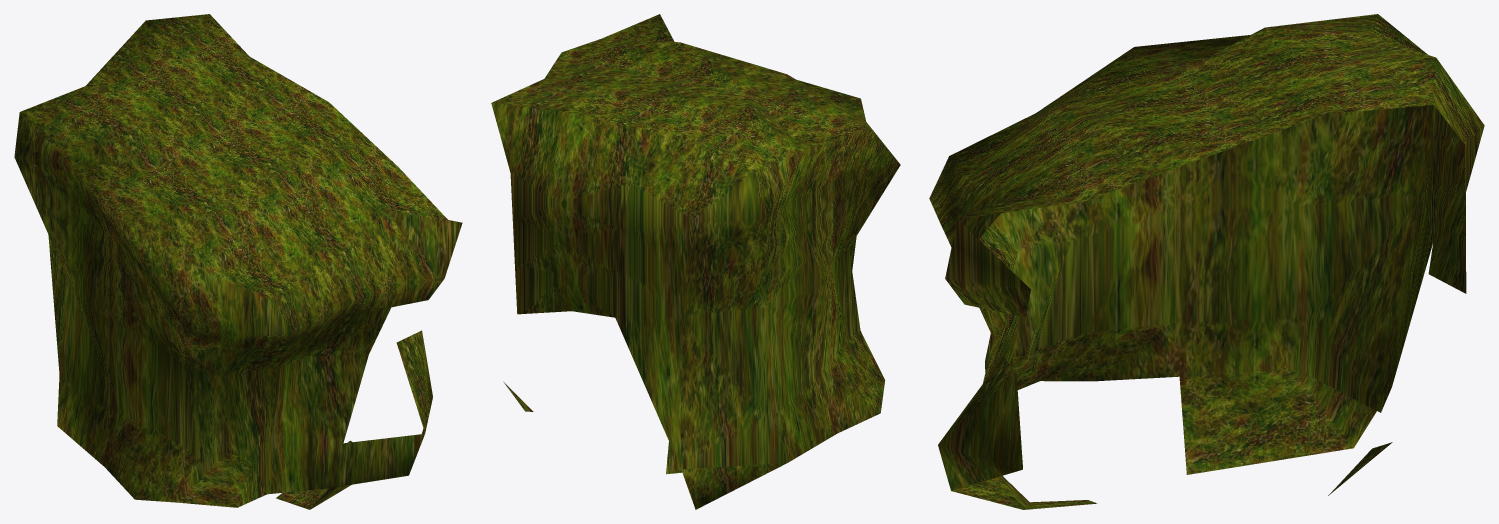
The model's file is TROLLHOLE02_RM_PSURF134.fbx.
3 views of the same model, side by side, from view 1: azimuth 30°, elevation 25°; view 2: azimuth 150°, elevation 25°; view 3: azimuth 270°, elevation 25° (orthographic). The views are drawn at different scales.
Parts seen in each view (by area): view 1: TROLLHOLE02_RM_PSURF134; view 2: TROLLHOLE02_RM_PSURF134; view 3: TROLLHOLE02_RM_PSURF134.
Boxes of the visible parts, x1,y1,x2,y2 form: TROLLHOLE02_RM_PSURF134: (14, 14, 462, 509); TROLLHOLE02_RM_PSURF134: (491, 14, 900, 509); TROLLHOLE02_RM_PSURF134: (929, 14, 1484, 509).
Bounding box in the file's own units: 70995 × 83935 × 90538.
1 material, 1 textured.
